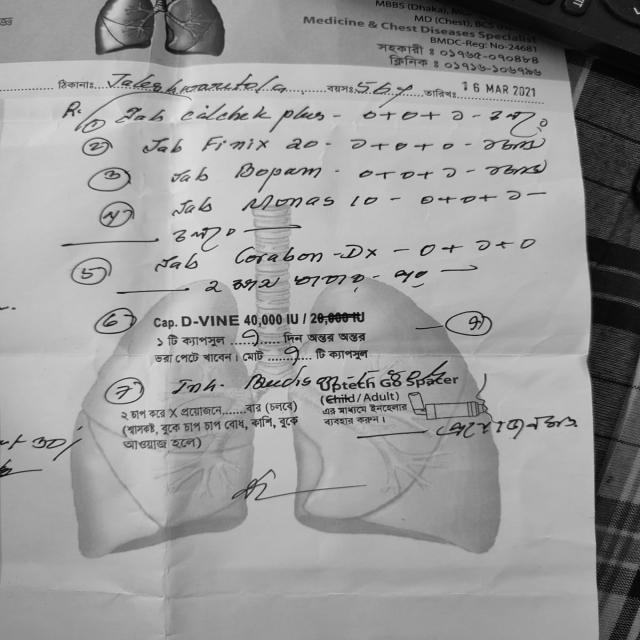Becoson: (240, 370, 345, 386)
Bopam: (229, 157, 330, 185)
Calchek Plus: (179, 101, 331, 129)
Corabon Dx: (226, 237, 383, 268)
Finix: (199, 133, 279, 154)
Monas: (237, 193, 342, 216)
